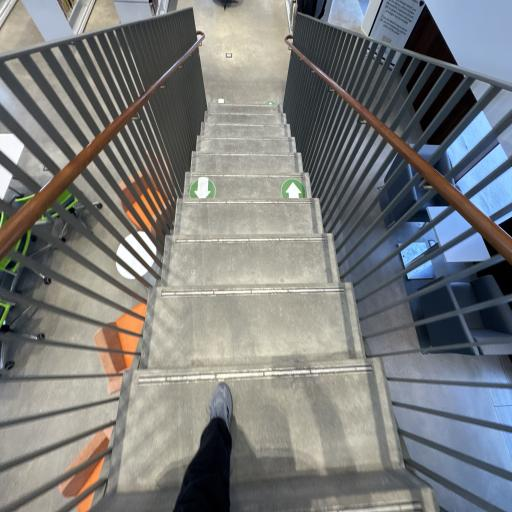Stairs: (95, 104, 438, 512)
